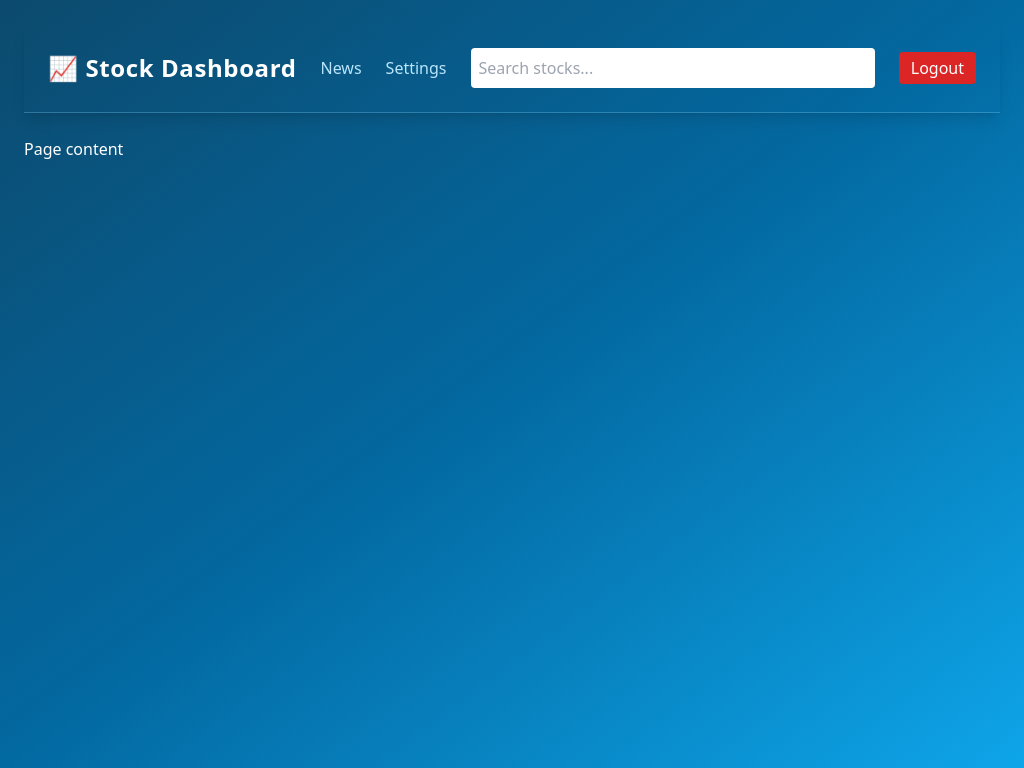
Test: Signed-in layout › ignores results for a search that has since changed
Type "ap" into the field with placeholder "Search stocks..." at point(673, 68), box [470, 48, 875, 88]
Wait 300 ms
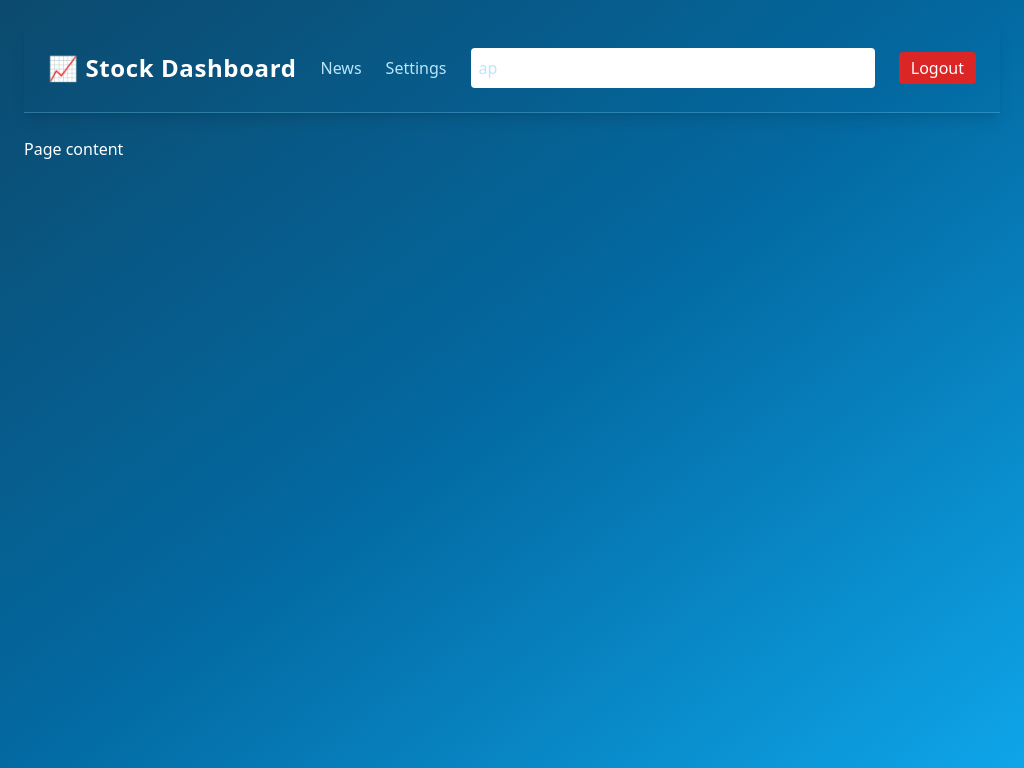
Replace the text in the field with placeholder "Search stocks..." with "micro" at point(673, 68), box [470, 48, 875, 88]
Wait 300 ms
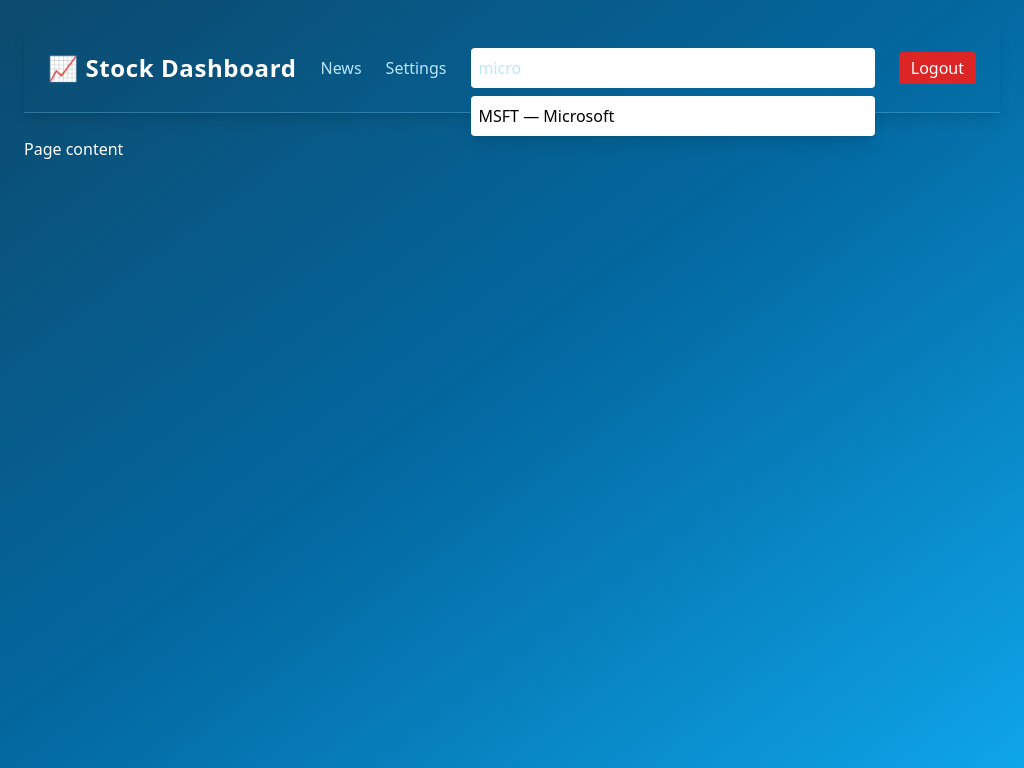
Expected: the list item "MSFT — Microsoft" is shown, [478, 105, 614, 127]
